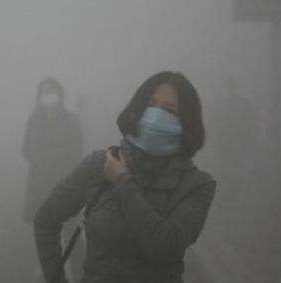person: (34, 73, 216, 283), (20, 77, 84, 208)
